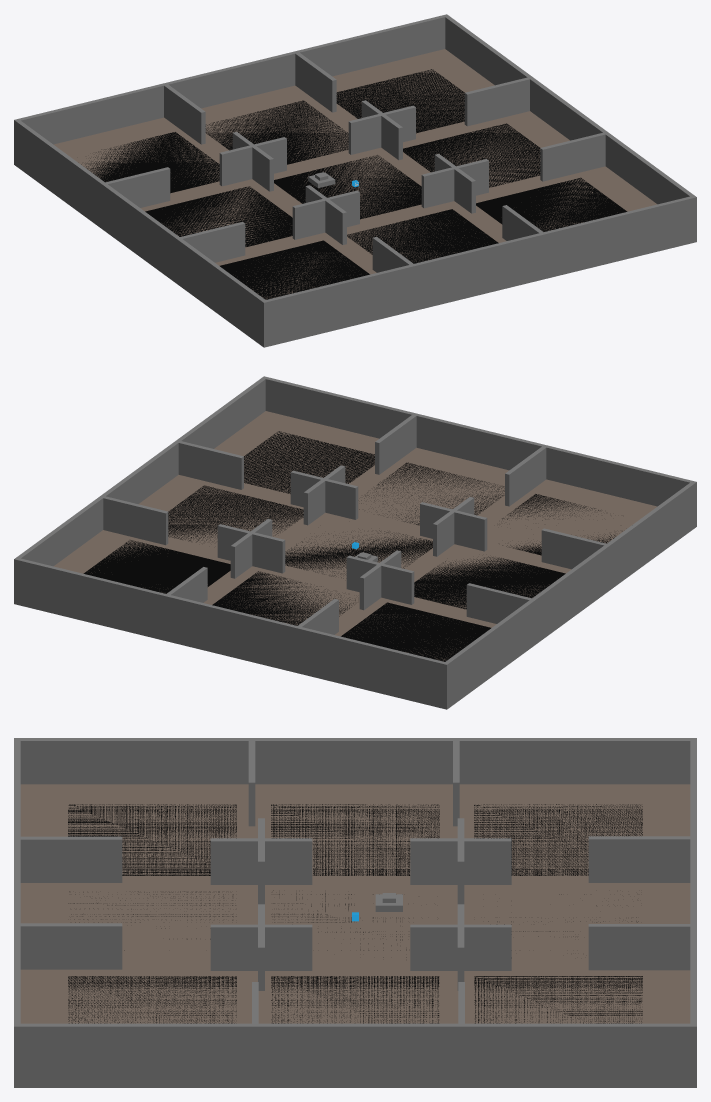
Rendered from AreaPB.fbx.
3 views of the same model, one above another, from view 1: azimuth 30°, elevation 25°; view 2: azimuth 150°, elevation 25°; view 3: azimuth 270°, elevation 25° (orthographic). The views are drawn at different scales.
Parts seen in each view (by area): view 1: Ground, Cube__1_, Cube, Cube__2_, Cube__3_, SpawnF, SpawnI, SpawnB, SpawnD, SpawnA, SpawnE, SpawnC (+18 smaller); view 2: Ground, Cube, Cube__1_, Cube__2_, Cube__3_, SpawnC, SpawnG, SpawnD, SpawnF, SpawnA, SpawnB, SpawnE (+18 smaller); view 3: Ground, Cube__3_, Cube__2_, SpawnI, SpawnF, SpawnC, Cube__9_, Cube__10_, Cube__8_, Cube__11_, SpawnG, SpawnA (+13 smaller).
Part boxes in pixels (<box>): Ground: <box>53,49,657,299</box>; Cube__1_: <box>261,195,696,347</box>; Cube: <box>14,14,448,165</box>; Cube__2_: <box>16,120,265,345</box>; Cube__3_: <box>445,16,694,204</box>; SpawnF: <box>145,186,292,246</box>; SpawnI: <box>220,240,369,299</box>; SpawnB: <box>205,100,348,164</box>; SpawnD: <box>403,123,540,187</box>; SpawnA: <box>336,69,464,133</box>; SpawnE: <box>274,155,421,219</box>; SpawnC: <box>81,132,219,193</box>; Ground: <box>53,411,657,661</box>; Cube: <box>14,557,449,709</box>; Cube__1_: <box>262,376,696,527</box>; Cube__2_: <box>445,482,694,707</box>; Cube__3_: <box>16,378,265,566</box>; SpawnC: <box>341,602,490,661</box>; SpawnG: <box>244,431,374,493</box>; SpawnD: <box>168,485,303,542</box>; SpawnF: <box>414,556,565,609</box>; SpawnA: <box>83,540,230,593</box>; SpawnB: <box>212,571,355,625</box>; SpawnE: <box>285,530,432,578</box>; Ground: <box>20,784,690,1023</box>; Cube__3_: <box>20,1023,690,1087</box>; Cube__2_: <box>20,738,690,784</box>; SpawnI: <box>68,804,236,875</box>; SpawnF: <box>271,804,439,875</box>; SpawnC: <box>474,804,642,875</box>; Cube__9_: <box>20,923,122,969</box>; Cube__10_: <box>588,836,690,882</box>; Cube__8_: <box>588,924,690,970</box>; Cube__11_: <box>20,836,122,882</box>; SpawnG: <box>68,976,236,1023</box>; SpawnA: <box>474,976,642,1023</box>.
Size of the model in its own units: 10100 by 1000 by 10100.
